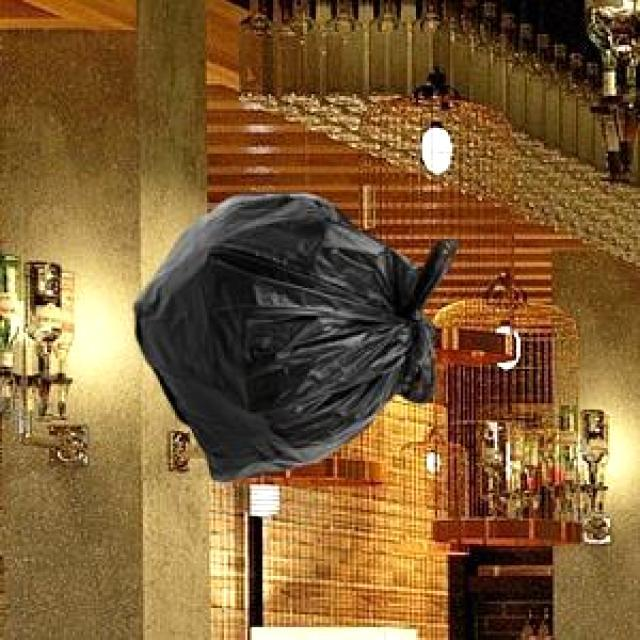Garbage_Bag: (132, 189, 454, 479)
